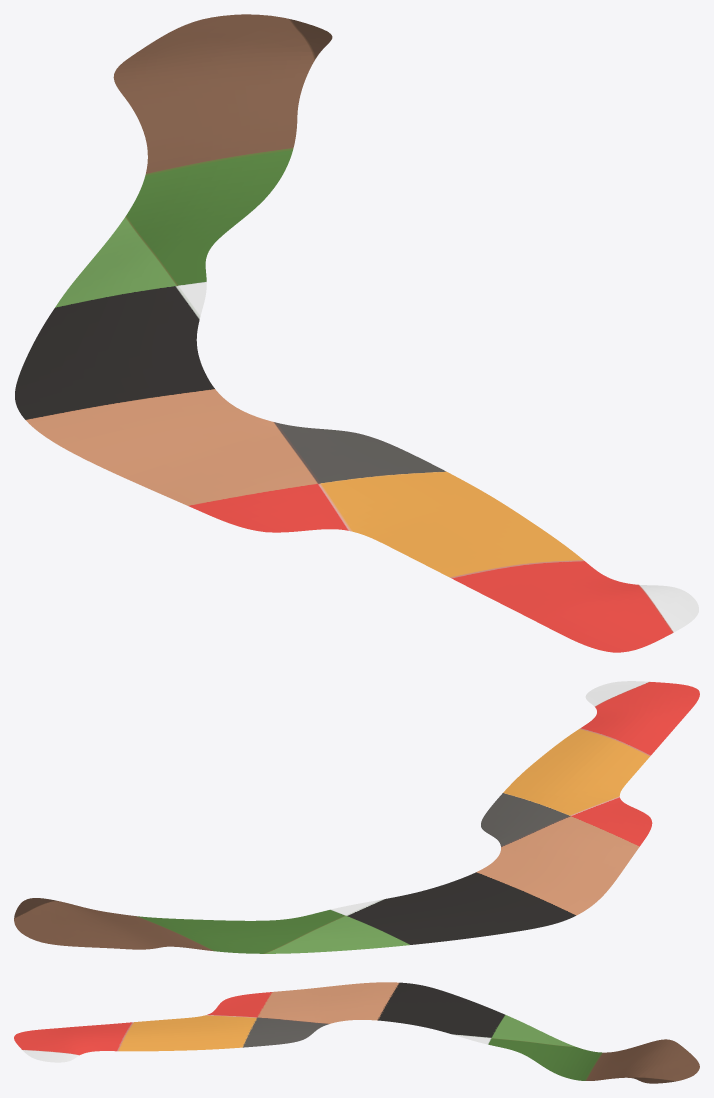
Rendered from lvl2grassbeach.fbx.
3 renders of one model, top to bottom at view 1: azimuth 30°, elevation 25°; view 2: azimuth 150°, elevation 25°; view 3: azimuth 270°, elevation 25°, orthographic. The views are drawn at different scales.
Visible parts, largest first — view 1: beachgrass; view 2: beachgrass; view 3: beachgrass.
Part boxes in pixels (box(x1,y1,x2,y2)): beachgrass: box(15, 14, 698, 652); beachgrass: box(14, 681, 699, 953); beachgrass: box(14, 982, 699, 1083).
Bounding box in the file's own units: 32.31 × 3.97 × 68.97.
